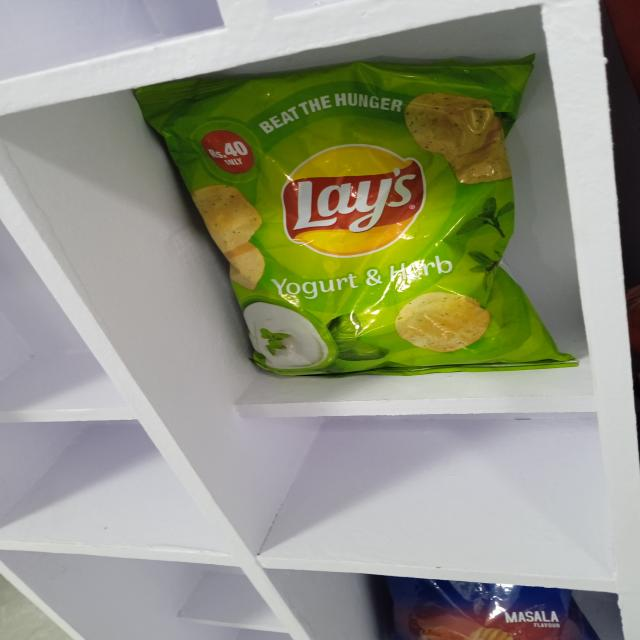Plastic: (258, 74, 494, 366), (368, 590, 574, 640)
